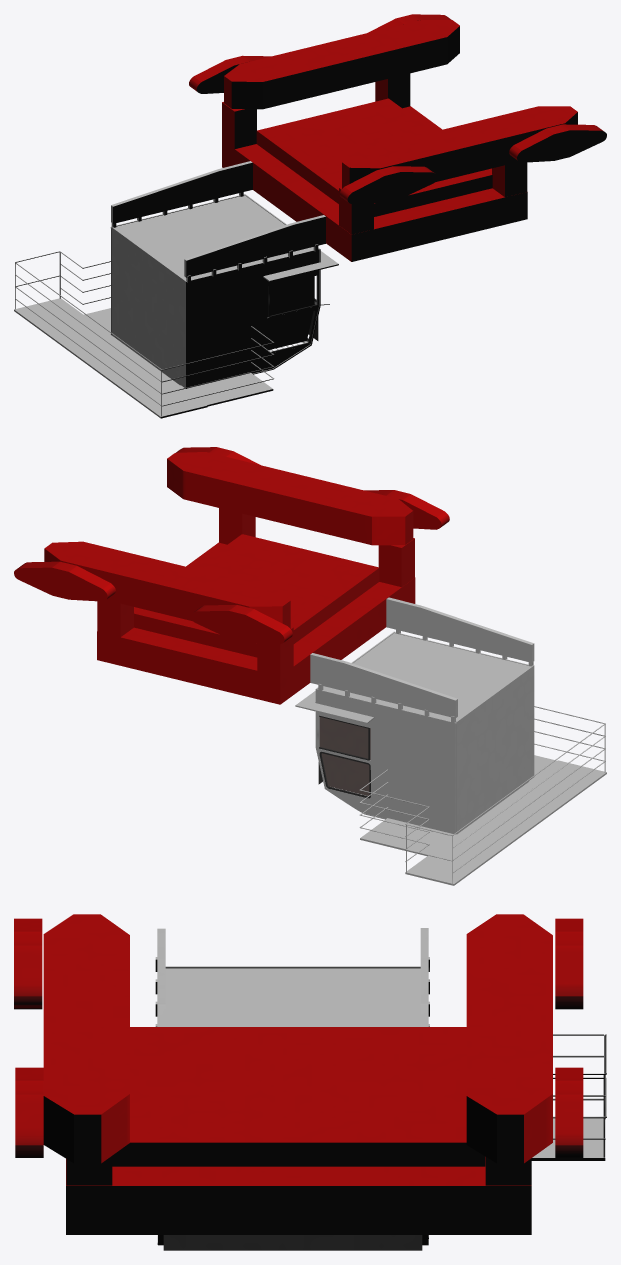
File: STSTrolleySea.FBX
3 views of the same model, one above another, from view 1: azimuth 30°, elevation 25°; view 2: azimuth 150°, elevation 25°; view 3: azimuth 270°, elevation 25° (orthographic). The views are drawn at different scales.
Parts seen in each view (by area): view 1: SeaTrolley001; view 2: SeaTrolley001; view 3: SeaTrolley001.
Part boxes in pixels (bbox=[...]): SeaTrolley001: bbox=[14, 14, 606, 418]; SeaTrolley001: bbox=[14, 447, 606, 885]; SeaTrolley001: bbox=[14, 914, 606, 1250].
Bounding box in the file's own units: 1100 × 506 × 735.
